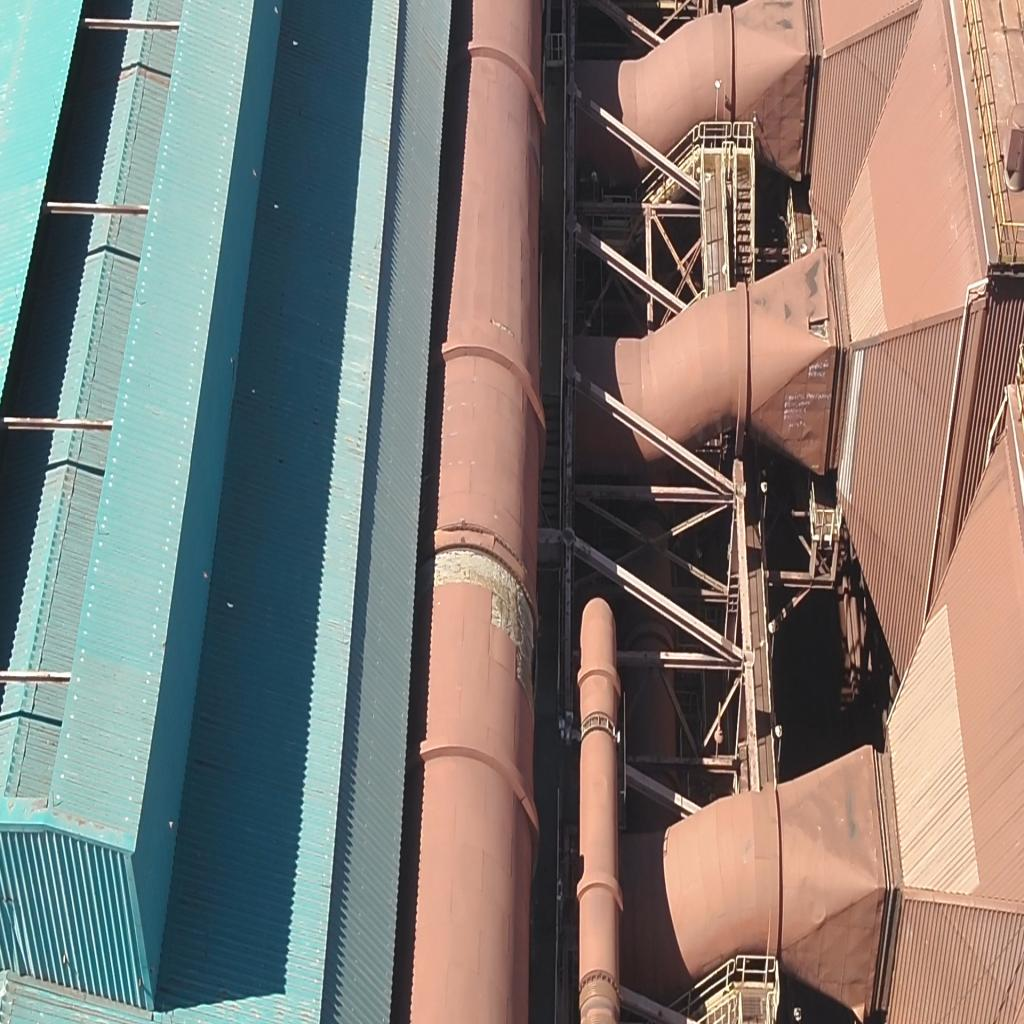Failures: (420, 521, 538, 675), (807, 312, 836, 352)
